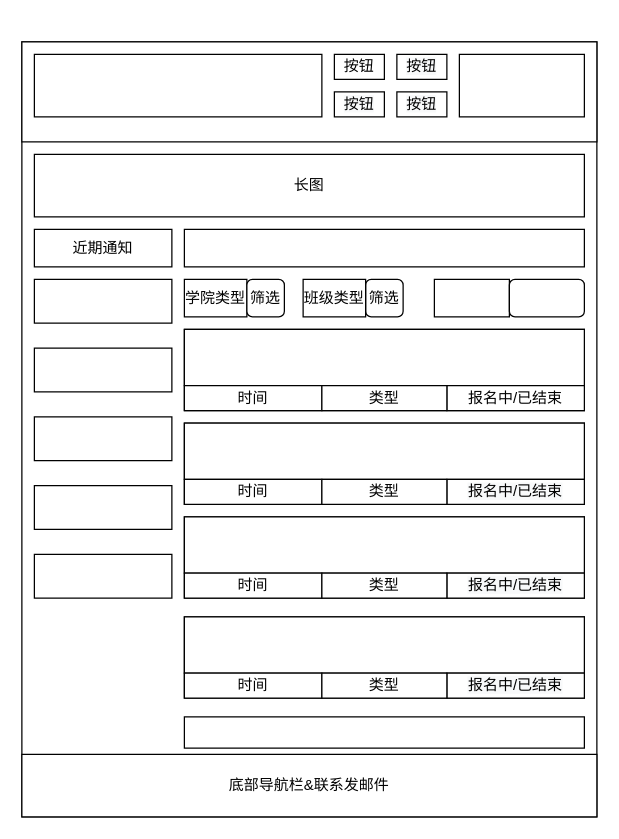
This 619x839 diagram has some shape labels left out. Here are the shapes that lost their labels. From the top down, the centre of each, then its label:
At (x=177, y=85): "学生日常党团活动系统（文字+图片）".
At (x=521, y=85): "当前登录学生信息显示（跳转主页）".
At (x=383, y=247): "活动列表".
At (x=546, y=297): "搜索".
At (x=383, y=732): "分页页码".
